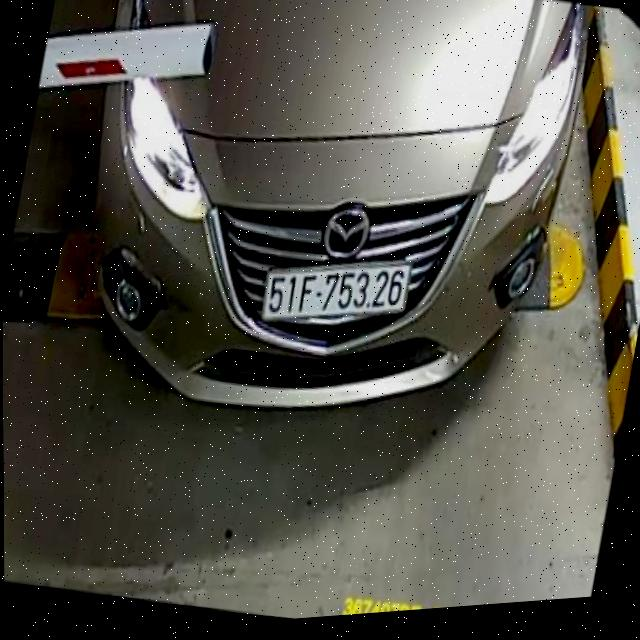car: (41, 0, 607, 479)
plate: (254, 237, 418, 350)
